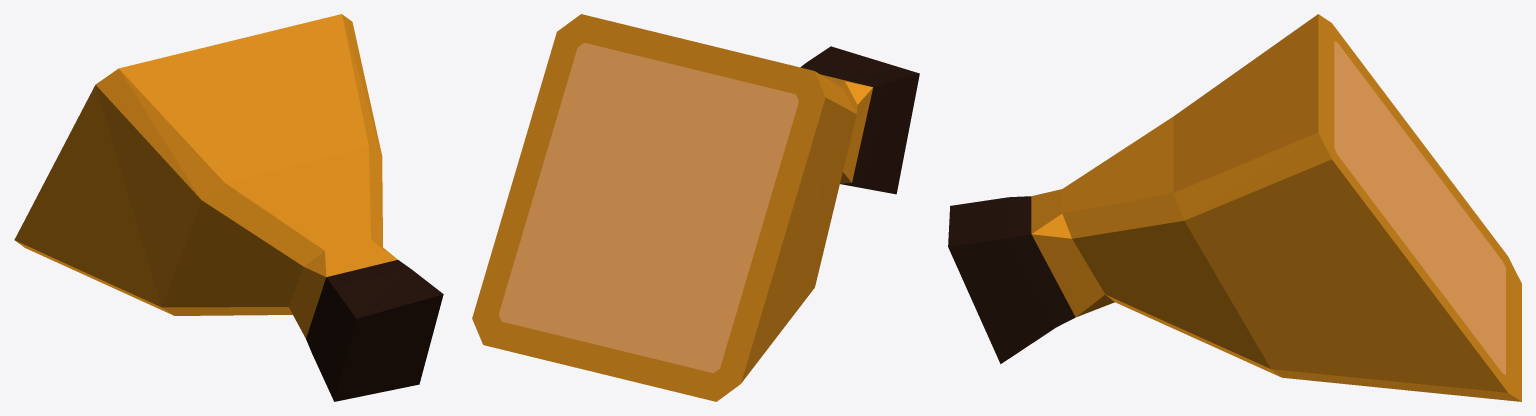
File: Banaan_Stuk3.FBX
3 renders of one model, left to right at view 1: azimuth 30°, elevation 25°; view 2: azimuth 150°, elevation 25°; view 3: azimuth 270°, elevation 25°, orthographic. The views are drawn at different scales.
Visible parts, largest first — view 1: Banaan_stuk2; view 2: Banaan_stuk2; view 3: Banaan_stuk2.
Part boxes in pixels (x1=…): Banaan_stuk2: x1=14, y1=14, x2=443, y2=401; Banaan_stuk2: x1=472, y1=14, x2=919, y2=401; Banaan_stuk2: x1=948, y1=14, x2=1521, y2=401.
Bounding box in the file's own units: 810 × 1441 × 747.
